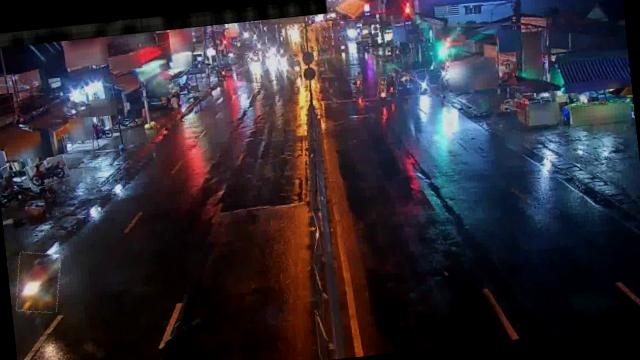Bike: (12, 250, 64, 314), (25, 156, 70, 188), (384, 73, 399, 99), (416, 68, 430, 93), (350, 68, 362, 92), (377, 78, 387, 100), (398, 74, 412, 89)
